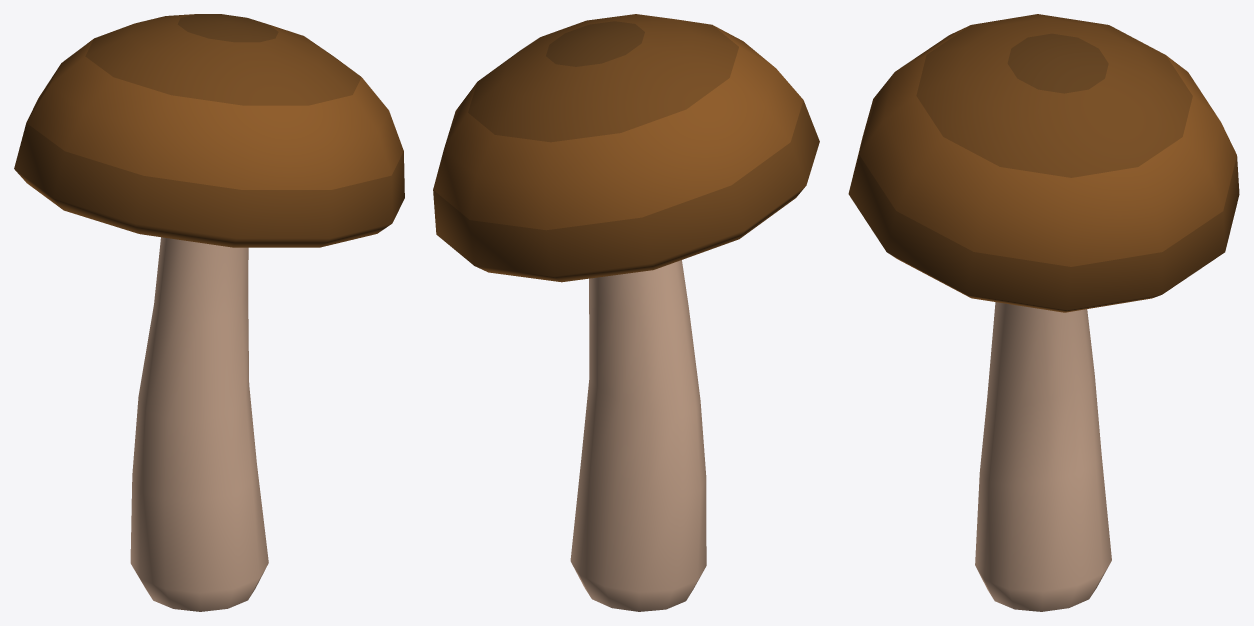
The model's file is Mushroom_3.fbx.
The picture shows the model from 3 angles, left to right: view 1: azimuth 30°, elevation 25°; view 2: azimuth 150°, elevation 25°; view 3: azimuth 270°, elevation 25°; orthographic projection.
Visible parts, largest first — view 1: Mushroom_3; view 2: Mushroom_3; view 3: Mushroom_3.
Boxes of the visible parts, <box> form: Mushroom_3: <box>14,14,404,611</box>; Mushroom_3: <box>433,14,819,611</box>; Mushroom_3: <box>848,14,1239,611</box>.
Bounding box in the file's own units: 165 × 260 × 167.
